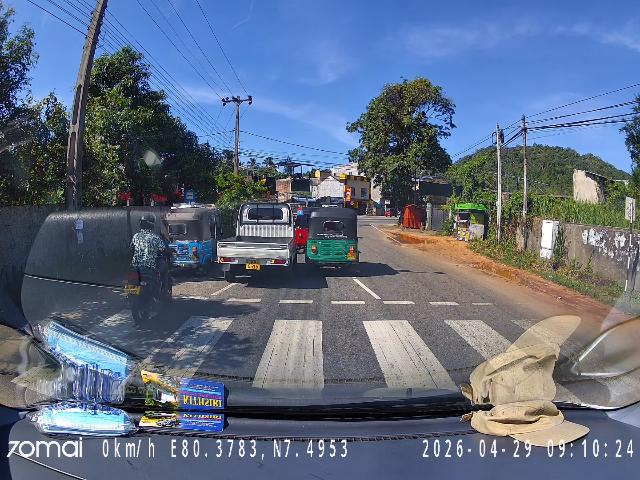illegal overtaking: (126, 222, 171, 319), (310, 205, 362, 275), (173, 203, 223, 272)
number plate: (125, 281, 145, 299), (344, 252, 359, 262), (189, 253, 200, 262)
